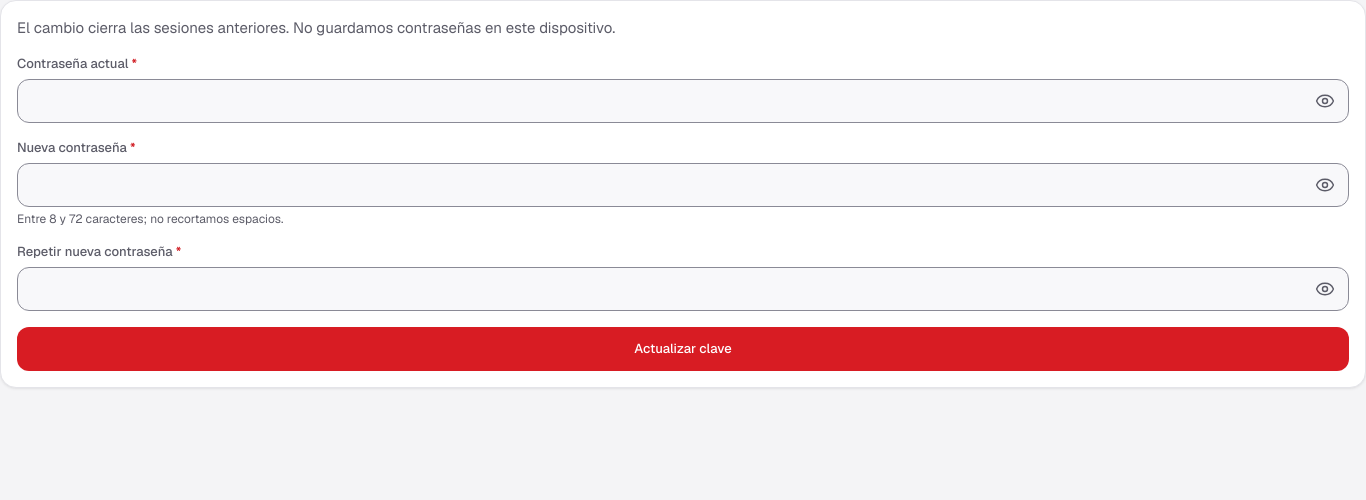
Cambio de clave visible › un resultado incierto borra campos, no declara éxito ni repite
This screenshot has width=1366, height=500.
In the password field labelled "Contraseña actual *": (683,101) left=17, top=79, right=1349, bottom=123, type "Current fixture 1"
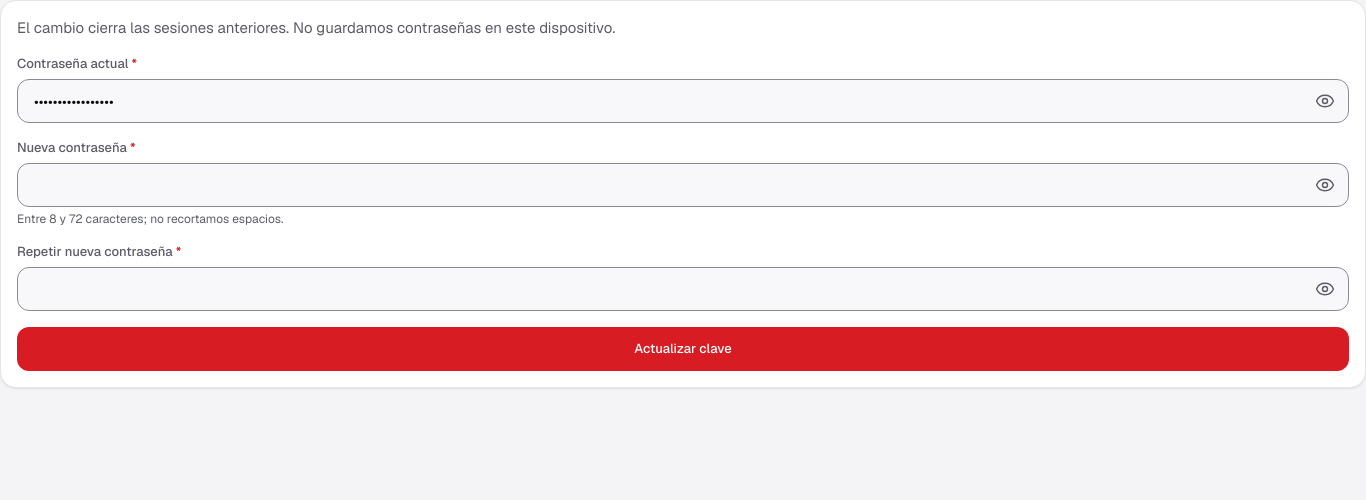
In the password field labelled "Nueva contraseña *": (683,185) left=17, top=163, right=1349, bottom=207, type "Replacement fixture 2"
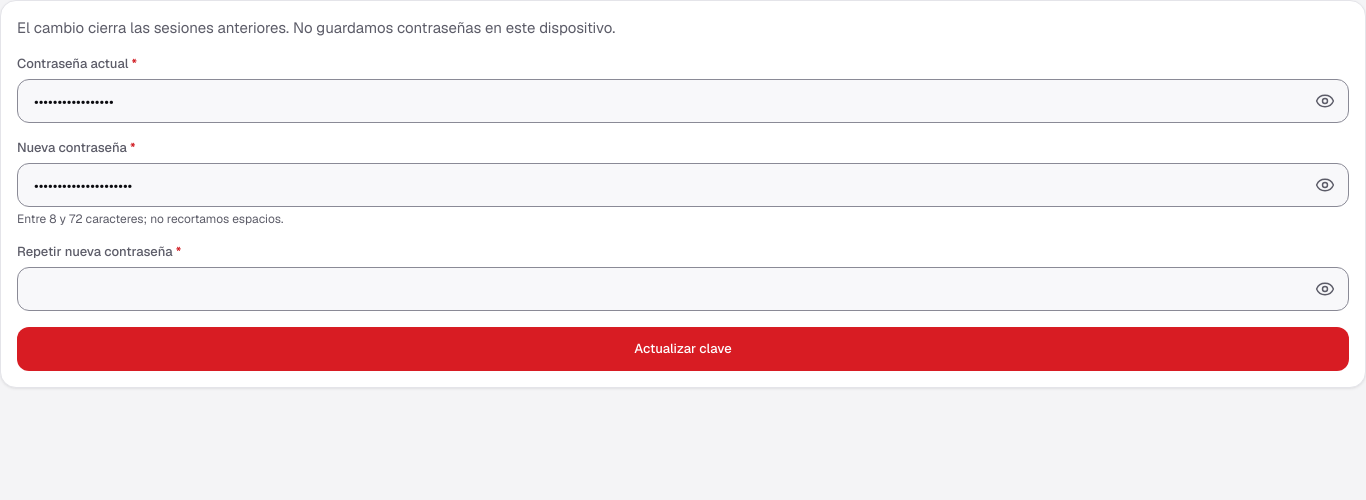
In the password field labelled "Repetir nueva contraseña *": (683,289) left=17, top=267, right=1349, bottom=311, type "Replacement fixture 2"
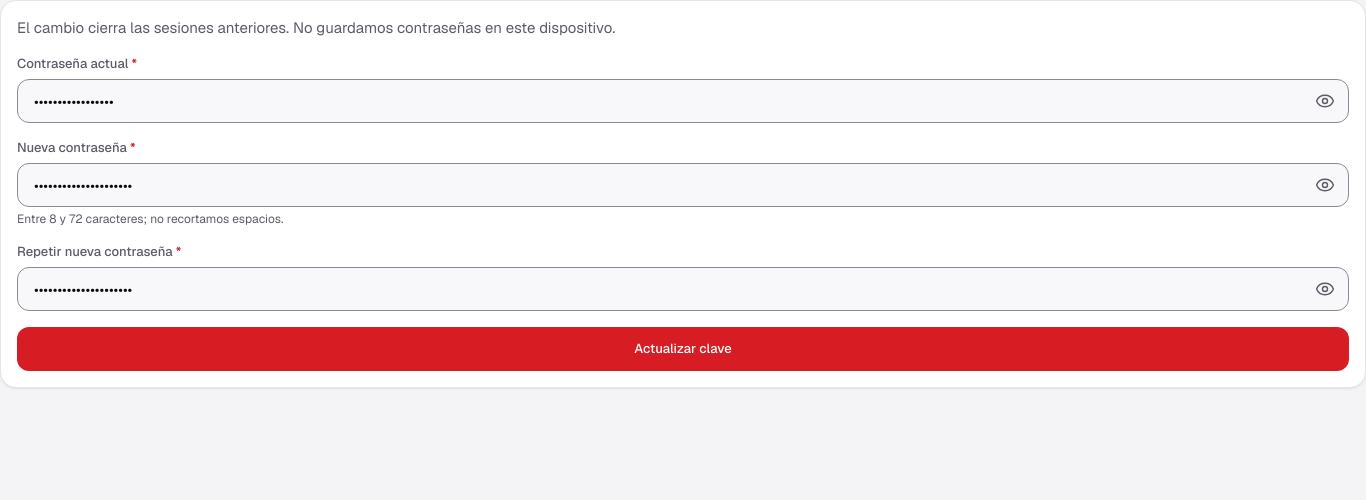
Click the button "Actualizar clave": (683,349) left=17, top=327, right=1349, bottom=371
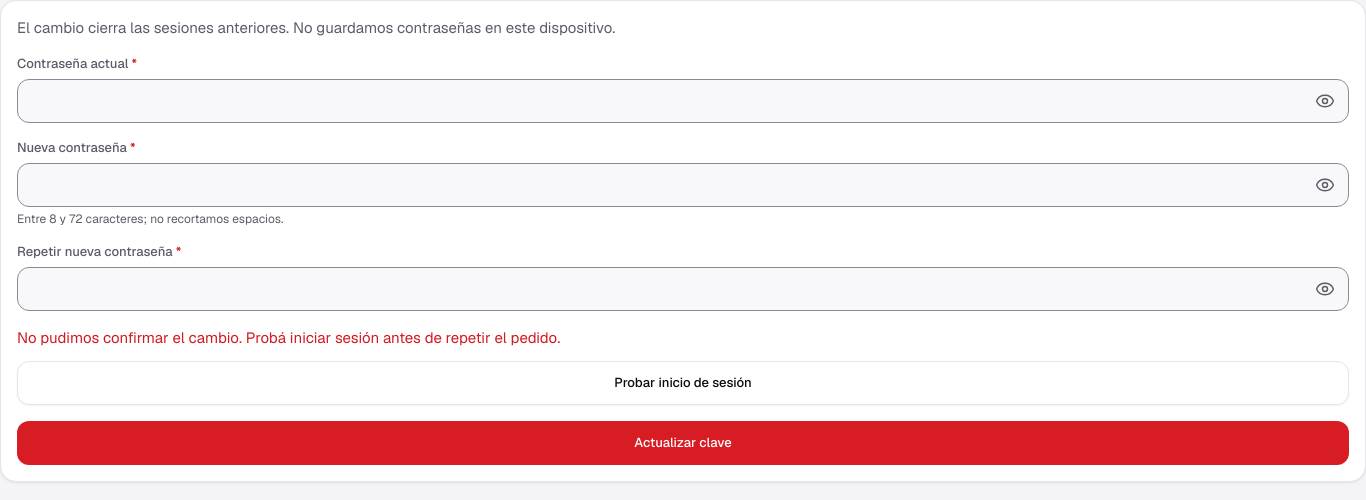
Expected: the message shows "No pudimos confirmar", left=17, top=328, right=560, bottom=347
Expected: the password field labelled "Contraseña actual *" is empty, left=17, top=79, right=1349, bottom=123
Expected: the password field labelled "Nueva contraseña *" is empty, left=17, top=163, right=1349, bottom=207
